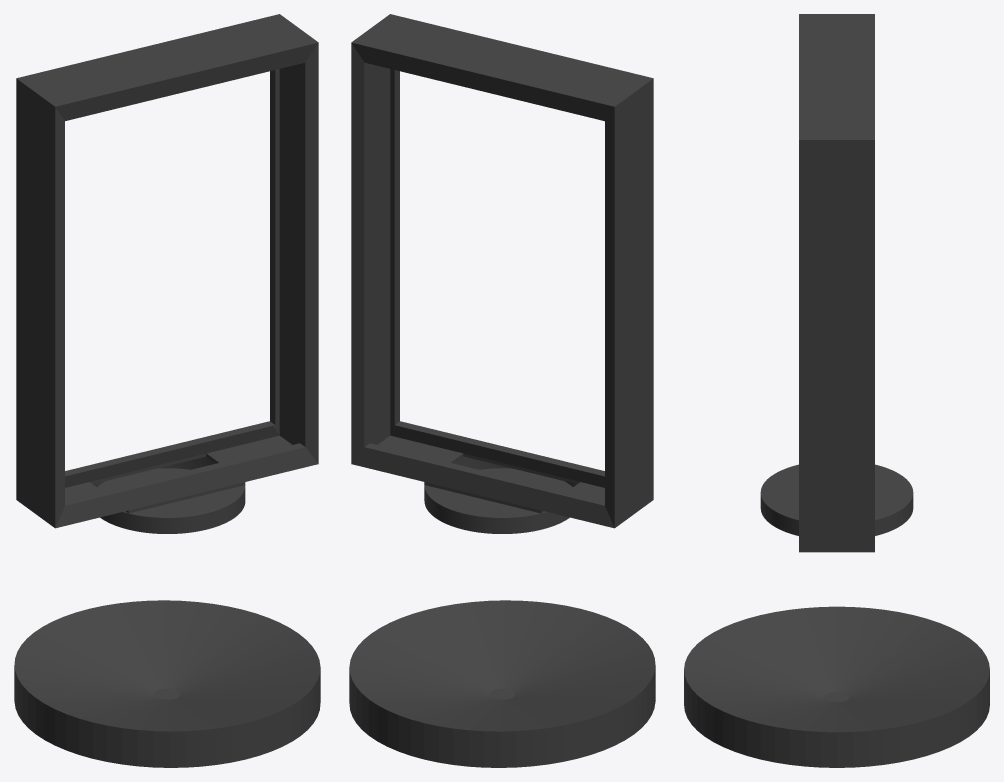
Rendered from DisplayBoard.fbx.
The picture shows the model from 3 angles, left to right: view 1: azimuth 30°, elevation 25°; view 2: azimuth 150°, elevation 25°; view 3: azimuth 270°, elevation 25°; orthographic projection. The views are drawn at different scales.
Visible parts, largest first — view 1: polySurface22; view 2: polySurface22; view 3: polySurface22.
Part boxes in pixels (<box>): polySurface22: <box>14,14,320,767</box>; polySurface22: <box>349,14,655,767</box>; polySurface22: <box>684,14,989,767</box>.
Size of the model in its own units: 0.9755 by 2.27 by 1.
Materials: 1 (1 with a texture image).
